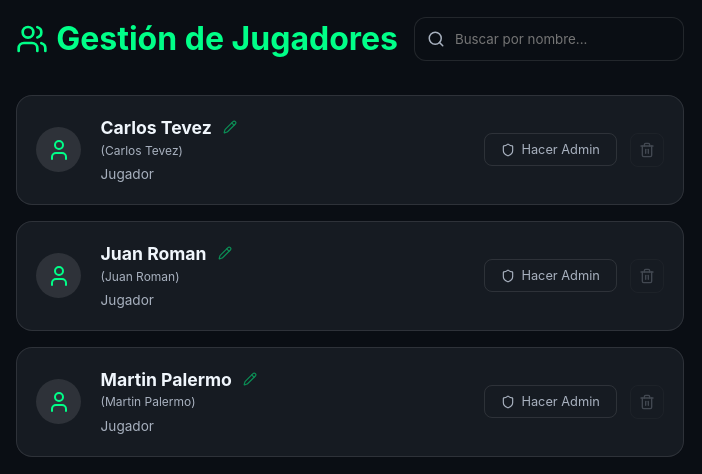
Test: Users › filters users by search term
Expected: the text "Carlos Tevez" is shown, 101,115 -> 240,142
Type "Juan" into the field with placeholder "Buscar por nombre..." at (549, 39), box 414,17 -> 684,61
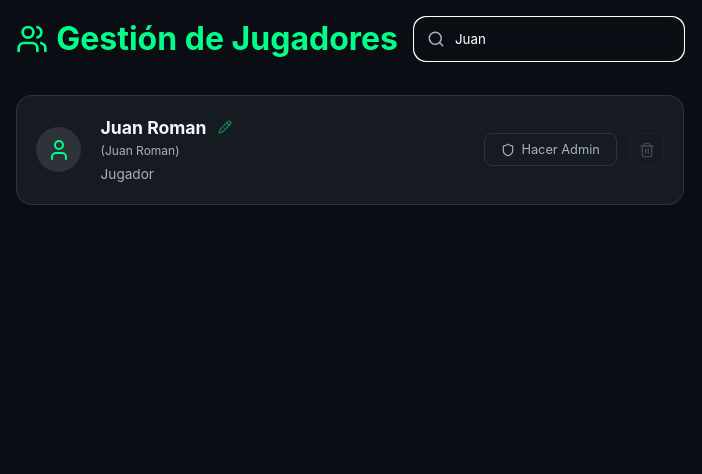
Expected: the text "Juan Roman" is shown, 101,115 -> 235,142
Result: the text "Carlos Tevez" is gone
Result: the text "Martin Palermo" is gone
